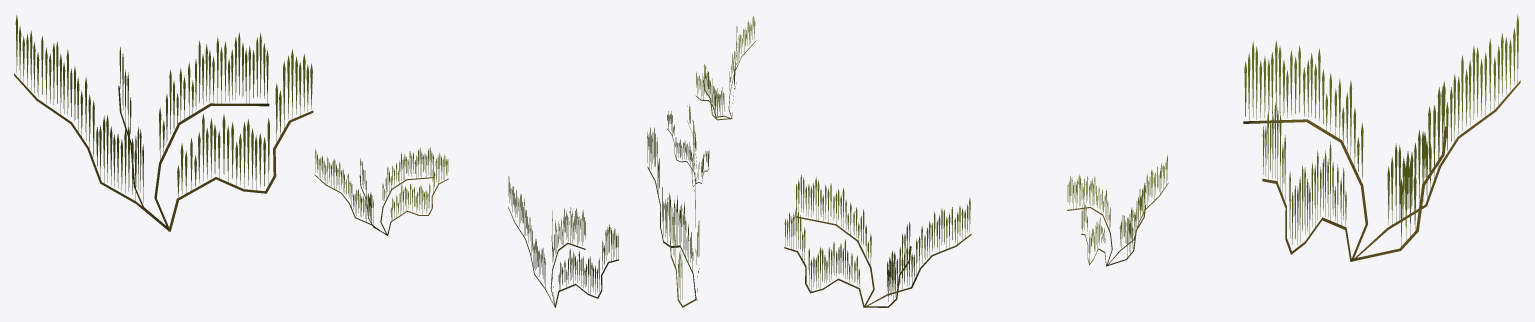
Rendered from Plant_04.FBX.
3 renders of one model, left to right at view 1: azimuth 30°, elevation 25°; view 2: azimuth 150°, elevation 25°; view 3: azimuth 270°, elevation 25°, orthographic. The views are drawn at different scales.
Visible parts, largest first — view 1: Plant_04; view 2: Plant_04; view 3: Plant_04.
Boxes of the visible parts, x1=… form: Plant_04: x1=14, y1=15, x2=618, y2=307; Plant_04: x1=647, y1=16, x2=755, y2=307; Plant_04: x1=784, y1=14, x2=1520, y2=307.
Bounding box in the file's own units: 19.9 × 15.11 × 40.83.
